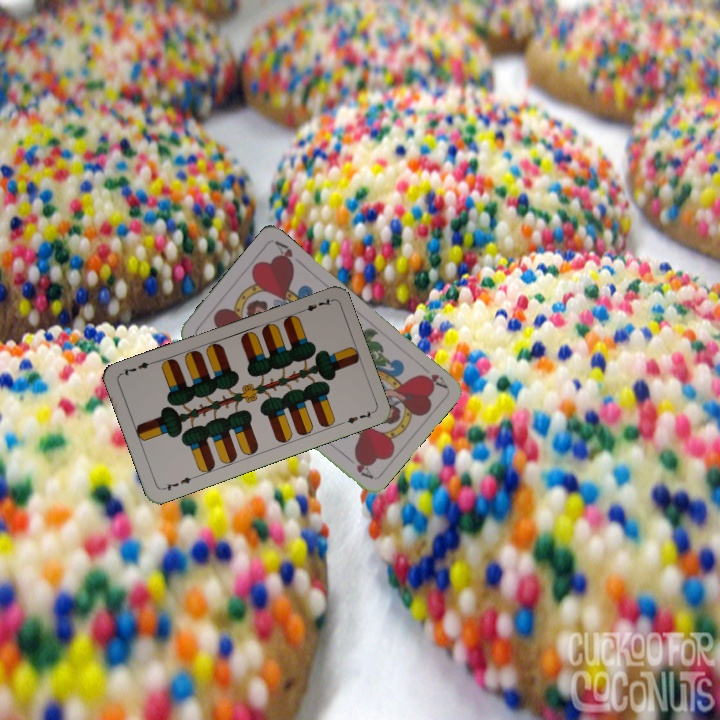E7: (295, 294, 334, 316), (159, 472, 198, 493)
HA: (415, 360, 449, 390)
